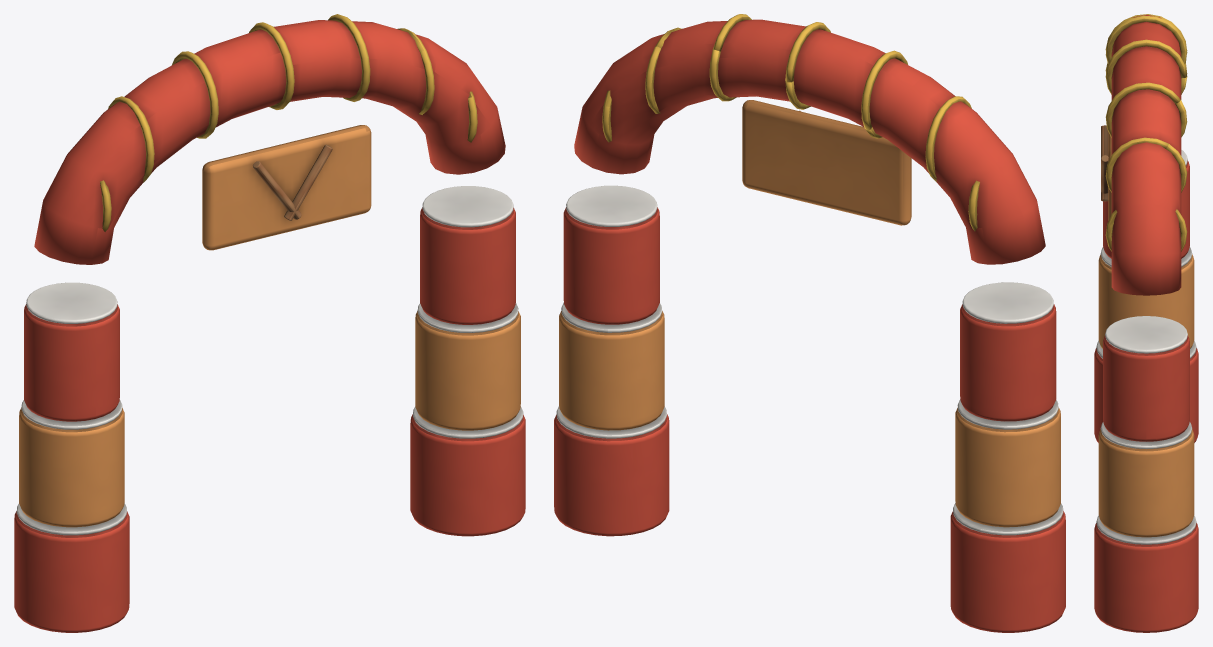
File: GateDrums.fbx
3 renders of one model, left to right at view 1: azimuth 30°, elevation 25°; view 2: azimuth 150°, elevation 25°; view 3: azimuth 270°, elevation 25°, orthographic. The views are drawn at different scales.
Parts seen in each view (by area): view 1: GateDrums_Body; view 2: GateDrums_Body; view 3: GateDrums_Body.
Part boxes in pixels (x1,y1,x2,y2): GateDrums_Body: (14, 14, 525, 632); GateDrums_Body: (554, 14, 1065, 632); GateDrums_Body: (1094, 14, 1198, 632).
Bounding box in the file's own units: 4.76 × 4.93 × 0.96.
